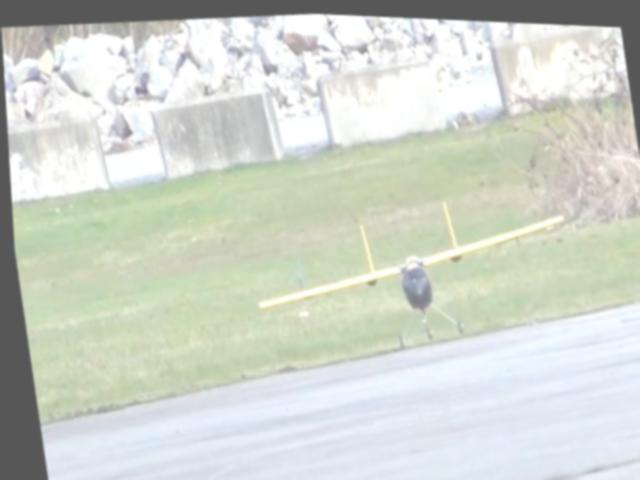iha: (244, 175, 584, 363)
